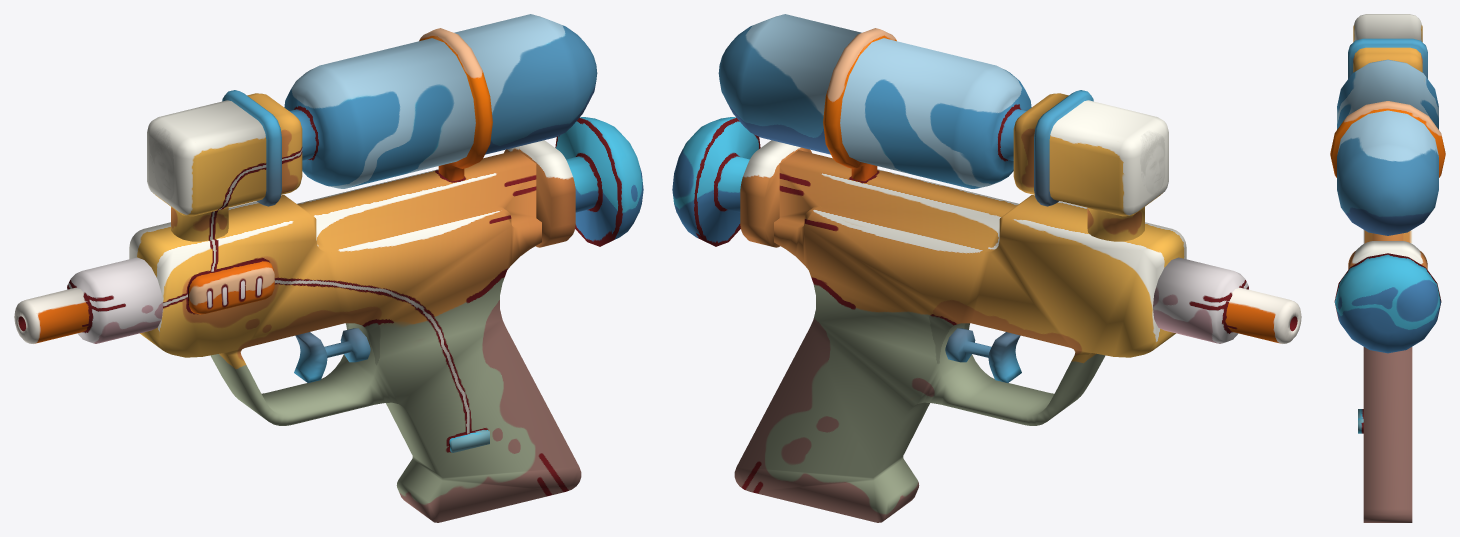
3 views of the same model, side by side, from view 1: azimuth 30°, elevation 25°; view 2: azimuth 150°, elevation 25°; view 3: azimuth 270°, elevation 25° (orthographic). The views are drawn at different scales.
Parts seen in each view (by area): view 1: samor_1643_01; view 2: samor_1643_01; view 3: samor_1643_01.
Part boxes in pixels (bbox=[...]): samor_1643_01: bbox=[14, 14, 643, 522]; samor_1643_01: bbox=[672, 14, 1301, 522]; samor_1643_01: bbox=[1330, 14, 1445, 522].
Size of the model in its own units: 619 by 461 by 127.
Materials: 1 (1 with a texture image).
